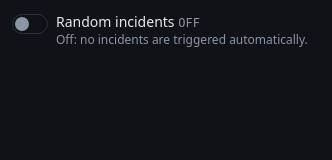
it: RandomIncidentsControl › shows another API failure with the backend message and keeps the state
Click the switch named "Random incidents": click(30, 24) [12,14,48,34]
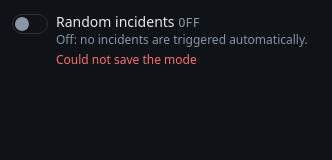
Expected: the message reads "Could not save the mode", [56,51,197,68]
